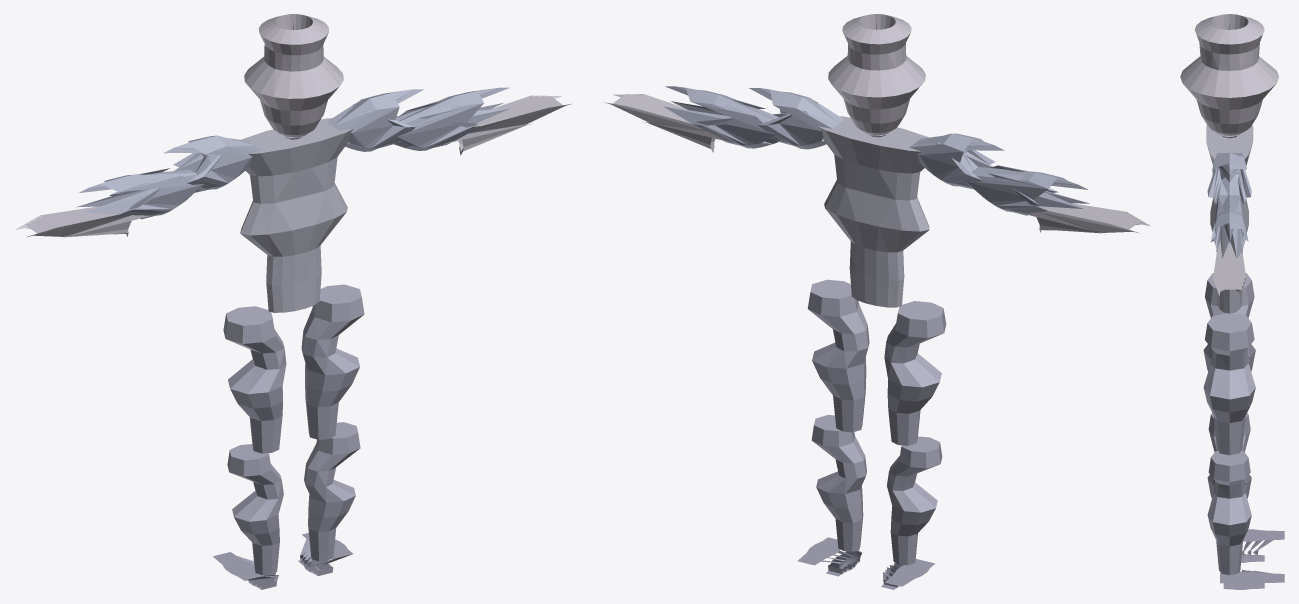
Rendered from 08c6f014-9e72-4306-babc-480cff1fff37.glb.
3 renders of one model, left to right at view 1: azimuth 30°, elevation 25°; view 2: azimuth 150°, elevation 25°; view 3: azimuth 270°, elevation 25°, orthographic.
Visible parts, largest first — view 1: Torso, Head, Leg_R_Upper, Leg_L_Upper, Leg_R_Lower, Leg_L_Lower, Arm_R_Lower, Arm_L_Lower, Arm_R_Upper, Arm_L_Upper, Hand_L, Hand_R (+2 smaller); view 2: Torso, Head, Leg_R_Upper, Leg_L_Upper, Leg_R_Lower, Leg_L_Lower, Arm_R_Lower, Arm_L_Lower, Arm_R_Upper, Arm_L_Upper, Hand_L, Hand_R (+2 smaller); view 3: Head, Leg_R_Upper, Leg_R_Lower, Torso, Arm_R_Lower, Arm_R_Upper, Hand_R, Leg_L_Upper, Foot_R, Foot_L, Leg_L_Lower.
Boxes of the visible parts, x1,y1,x2,y2 form: Torso: [240, 118, 353, 312]; Head: [244, 14, 343, 138]; Leg_R_Upper: [301, 284, 364, 439]; Leg_L_Upper: [223, 306, 286, 453]; Leg_R_Lower: [304, 422, 360, 561]; Leg_L_Lower: [227, 444, 283, 575]; Arm_R_Lower: [393, 87, 511, 150]; Arm_L_Lower: [76, 168, 203, 219]; Arm_R_Upper: [327, 89, 424, 151]; Arm_L_Upper: [163, 135, 260, 192]; Hand_L: [15, 206, 158, 237]; Hand_R: [438, 95, 572, 155]; Torso: [818, 116, 929, 307]; Head: [828, 14, 925, 136]; Leg_R_Upper: [807, 279, 869, 432]; Leg_L_Upper: [884, 301, 946, 445]; Leg_R_Lower: [811, 415, 866, 551]; Leg_L_Lower: [887, 436, 942, 565]; Arm_R_Lower: [663, 86, 778, 148]; Arm_L_Lower: [965, 165, 1089, 215]; Arm_R_Upper: [749, 88, 844, 149]; Arm_L_Upper: [909, 133, 1004, 189]; Hand_L: [1010, 203, 1150, 233]; Hand_R: [604, 94, 734, 152]; Head: [1180, 14, 1278, 136]; Leg_R_Upper: [1203, 313, 1255, 455]; Leg_R_Lower: [1207, 451, 1251, 575]; Torso: [1206, 125, 1253, 313]; Arm_R_Lower: [1210, 194, 1248, 258]; Arm_R_Upper: [1207, 152, 1251, 204]; Hand_R: [1213, 240, 1246, 296]; Leg_L_Upper: [1203, 273, 1255, 371]; Foot_R: [1220, 569, 1284, 589]; Foot_L: [1241, 529, 1284, 562]; Leg_L_Lower: [1207, 413, 1251, 498].
Size of the model in its own units: 1.52 by 1.48 by 0.2541.
